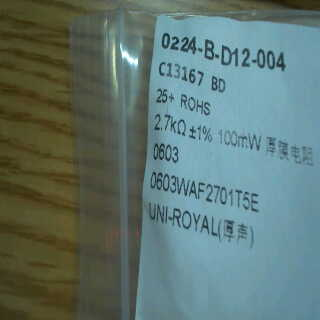2.7kR: (149, 107, 188, 140)
